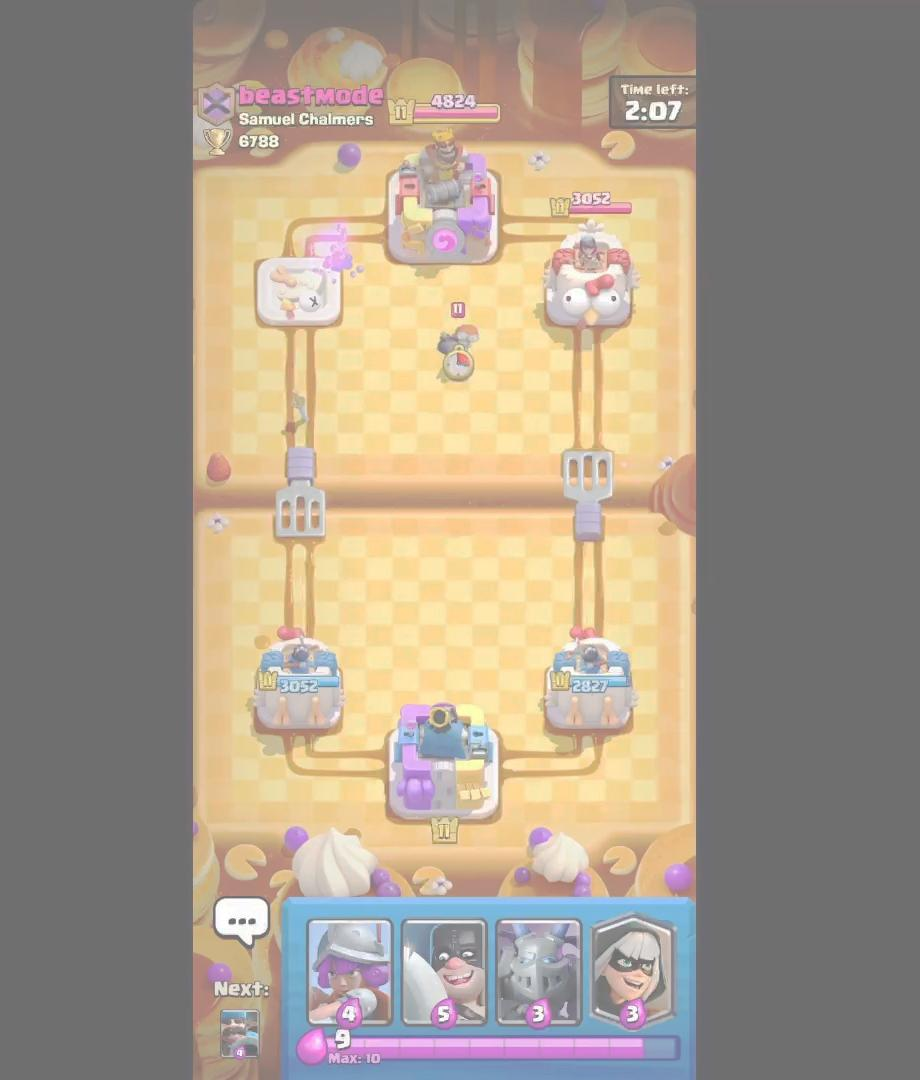Bomber: (428, 297, 490, 385)
